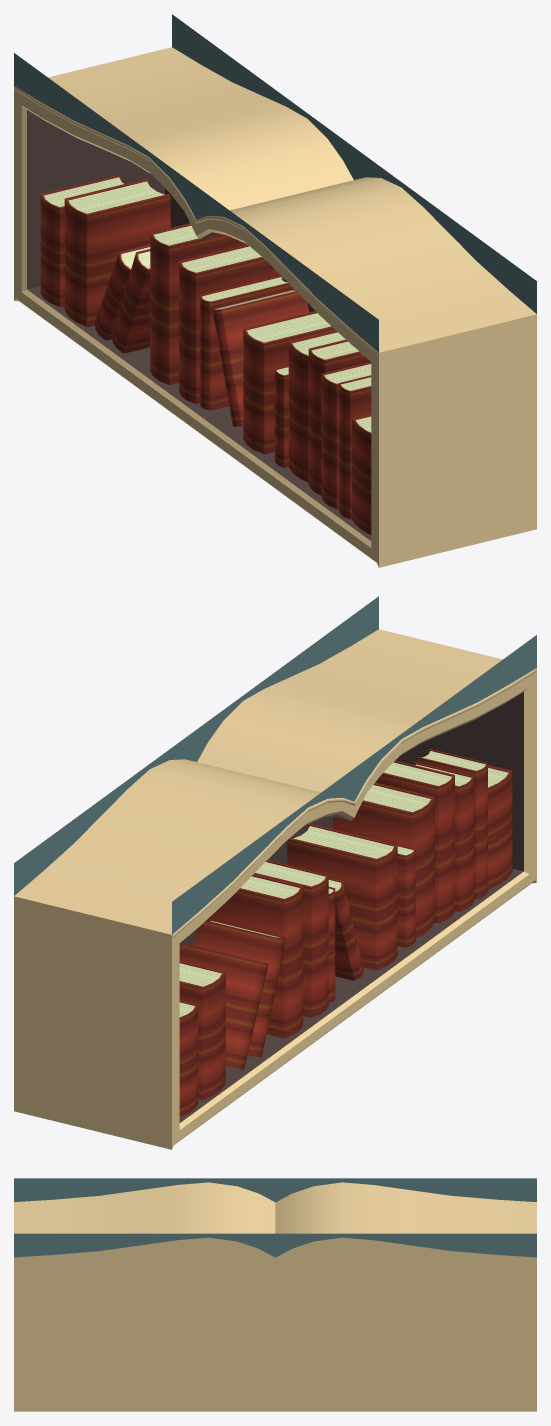
File: OT_160_bookshelf_top.glb
3 views of the same model, one above another, from view 1: azimuth 30°, elevation 25°; view 2: azimuth 150°, elevation 25°; view 3: azimuth 270°, elevation 25° (orthographic). The views are drawn at different scales.
Parts seen in each view (by area): view 1: bookshelf_top, book.083, book.084, book.085, book.087, book.094, book.086, book.082, book.089, book.090, book.091, book.096 (+4 smaller); view 2: bookshelf_top, book.087, book.084, book.089, book.085, book.095, book.090, book.083, book.096, book.093, book.091, book.092 (+4 smaller); view 3: bookshelf_top.
Part boxes in pixels (bbox=[...]): bookshelf_top: bbox=[14, 14, 536, 567]; book.083: bbox=[64, 178, 170, 326]; book.084: bbox=[150, 223, 246, 384]; book.085: bbox=[179, 244, 279, 403]; book.087: bbox=[243, 311, 334, 454]; book.094: bbox=[212, 289, 308, 426]; book.086: bbox=[200, 275, 293, 410]; book.082: bbox=[40, 174, 123, 307]; book.089: bbox=[288, 330, 345, 482]; book.090: bbox=[308, 339, 370, 495]; book.091: bbox=[321, 361, 371, 509]; book.096: bbox=[111, 249, 150, 353]; bookshelf_top: bbox=[14, 596, 536, 1149]; book.087: bbox=[287, 823, 397, 970]; book.084: bbox=[206, 874, 303, 1038]; book.089: bbox=[333, 782, 434, 937]; book.085: bbox=[254, 860, 328, 1017]; book.095: bbox=[179, 943, 268, 1069]; book.090: bbox=[375, 760, 454, 923]; book.083: bbox=[179, 960, 225, 1099]; book.096: bbox=[193, 919, 285, 1057]; book.093: bbox=[488, 765, 512, 889]; book.091: bbox=[414, 762, 474, 911]; book.092: bbox=[417, 748, 487, 899]; bookshelf_top: bbox=[14, 1178, 536, 1411].
Bounding box in the file's own units: 0.7562 × 1.12 × 3.
4 materials, 1 textured.
